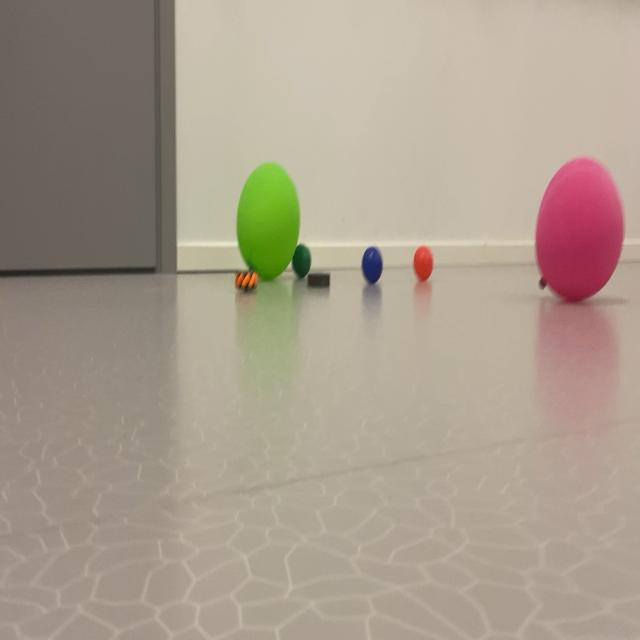7: (410, 243, 435, 279)
green ball: (360, 228, 387, 309)
red ball: (291, 242, 307, 284)
